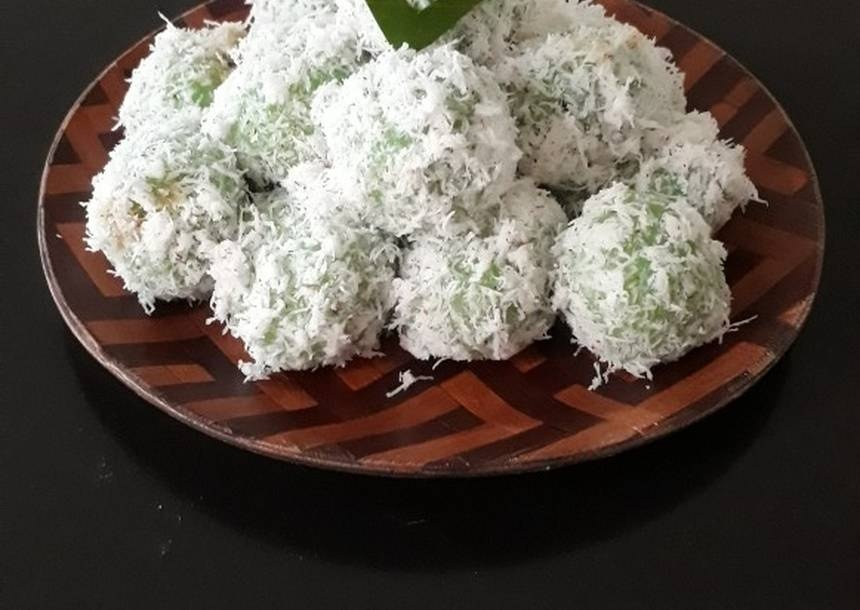klepon: (536, 190, 732, 414)
